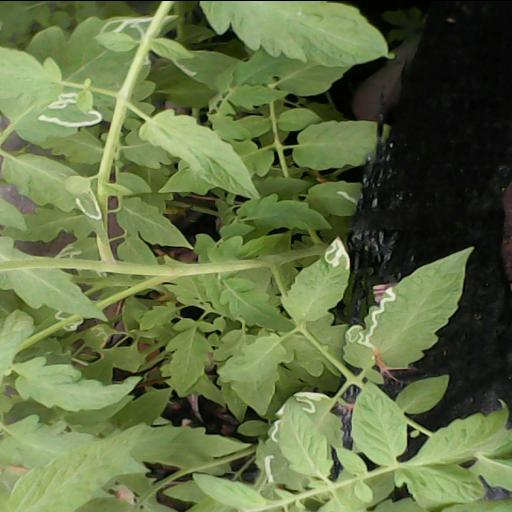Healthy: (198, 0, 394, 67), (350, 379, 407, 463)
Leaf Miner: (344, 246, 476, 368), (280, 236, 350, 324)
